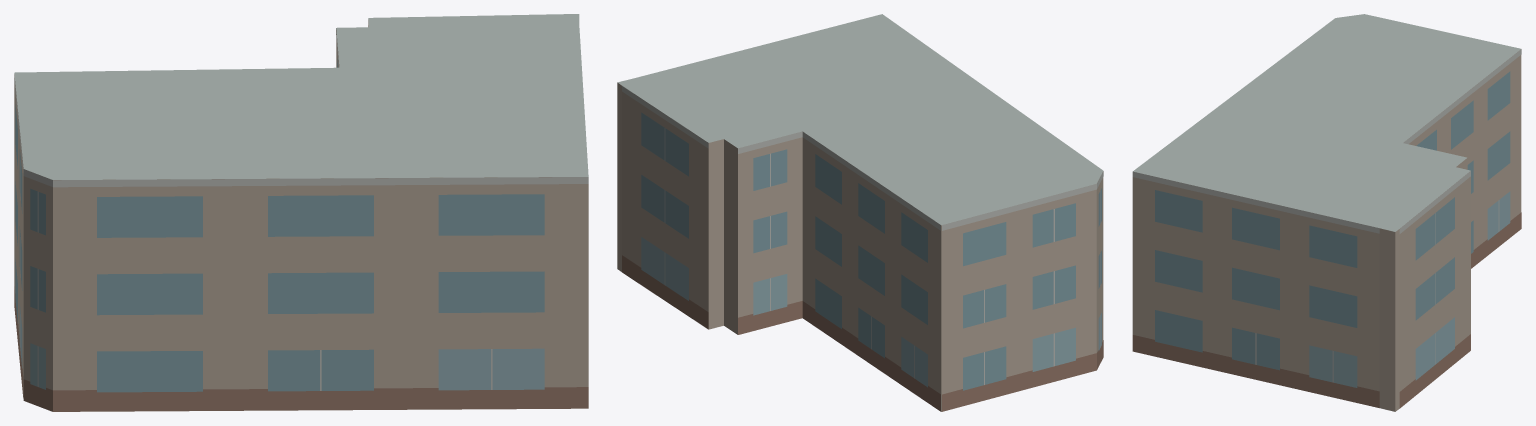
Rendered from survey-upis-32938315.glb.
3 views of the same model, side by side, from view 1: azimuth 30°, elevation 25°; view 2: azimuth 150°, elevation 25°; view 3: azimuth 270°, elevation 25° (orthographic). The views are drawn at different scales.
Visible parts, largest first — view 1: survey-upis-32938315.tmp; view 2: survey-upis-32938315.tmp; view 3: survey-upis-32938315.tmp.
Boxes of the visible parts, box(x1,y1,x2,y2) form: survey-upis-32938315.tmp: box(14, 14, 588, 411); survey-upis-32938315.tmp: box(617, 14, 1103, 411); survey-upis-32938315.tmp: box(1132, 14, 1521, 411).
Bounding box in the file's own units: 20.53 × 7.9 × 15.48.
